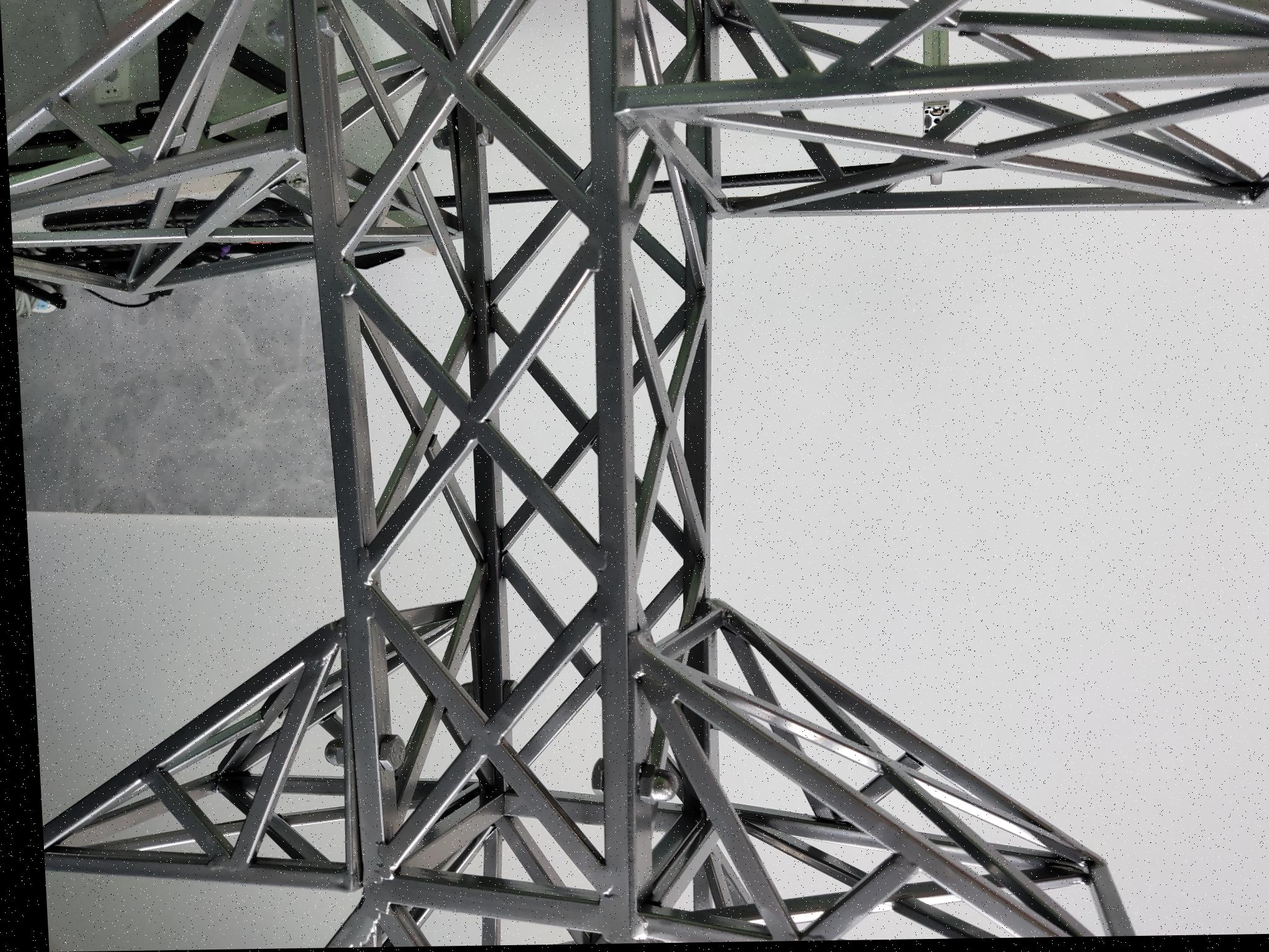tower: (0, 0, 1259, 951)
